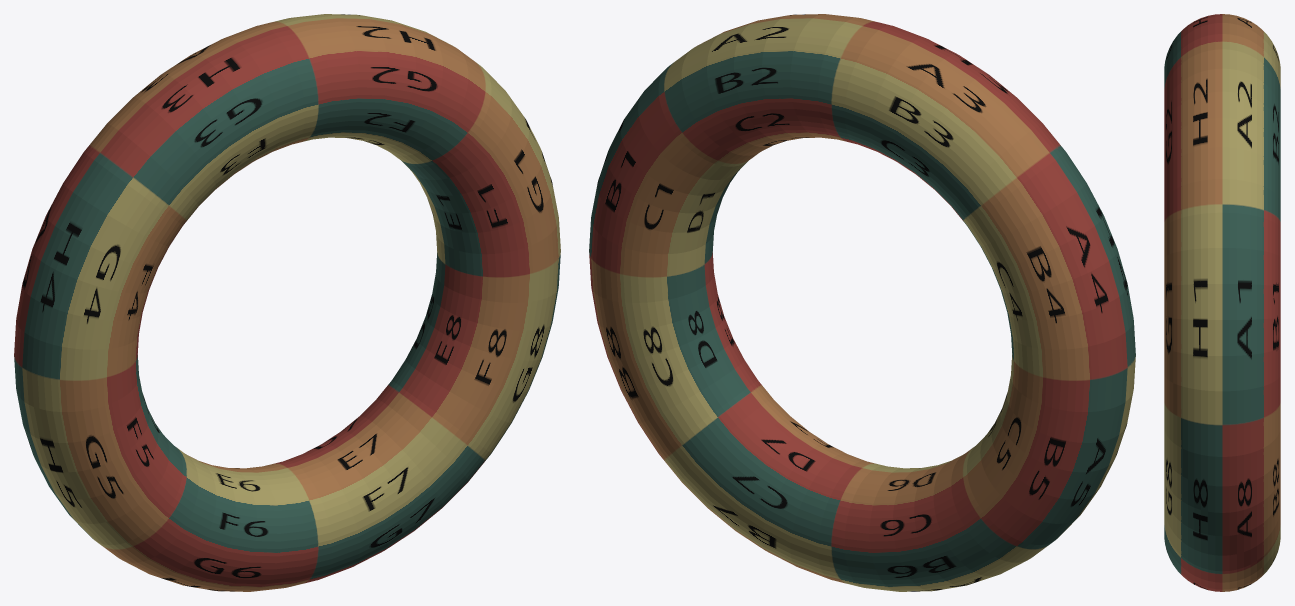
Rendered from texture_torus_R30_r21.glb.
The picture shows the model from 3 angles, left to right: view 1: azimuth 30°, elevation 25°; view 2: azimuth 150°, elevation 25°; view 3: azimuth 270°, elevation 25°; orthographic projection. The views are drawn at different scales.
Parts seen in each view (by area): view 1: world; view 2: world; view 3: world.
Part boxes in pixels (box(x1,y1,x2,y2)): world: box(14, 14, 560, 591); world: box(589, 14, 1135, 591); world: box(1164, 14, 1280, 591).
Bounding box in the file's own units: 37.6 × 37.53 × 7.59.
Materials: 1 (1 with a texture image).
